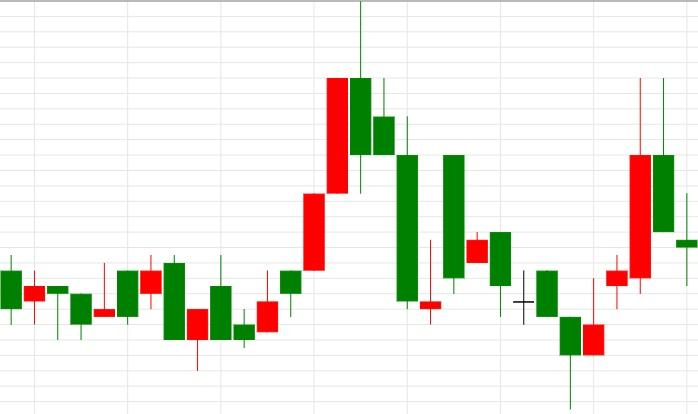hammer_rise: (491, 232, 581, 409)
